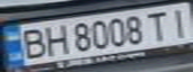0: (106, 15, 130, 47), (90, 17, 112, 51)
8: (124, 11, 148, 45), (69, 19, 93, 53)
B: (15, 25, 51, 61)
H: (39, 22, 69, 56)
I: (163, 3, 193, 38)
T: (142, 9, 172, 42)
